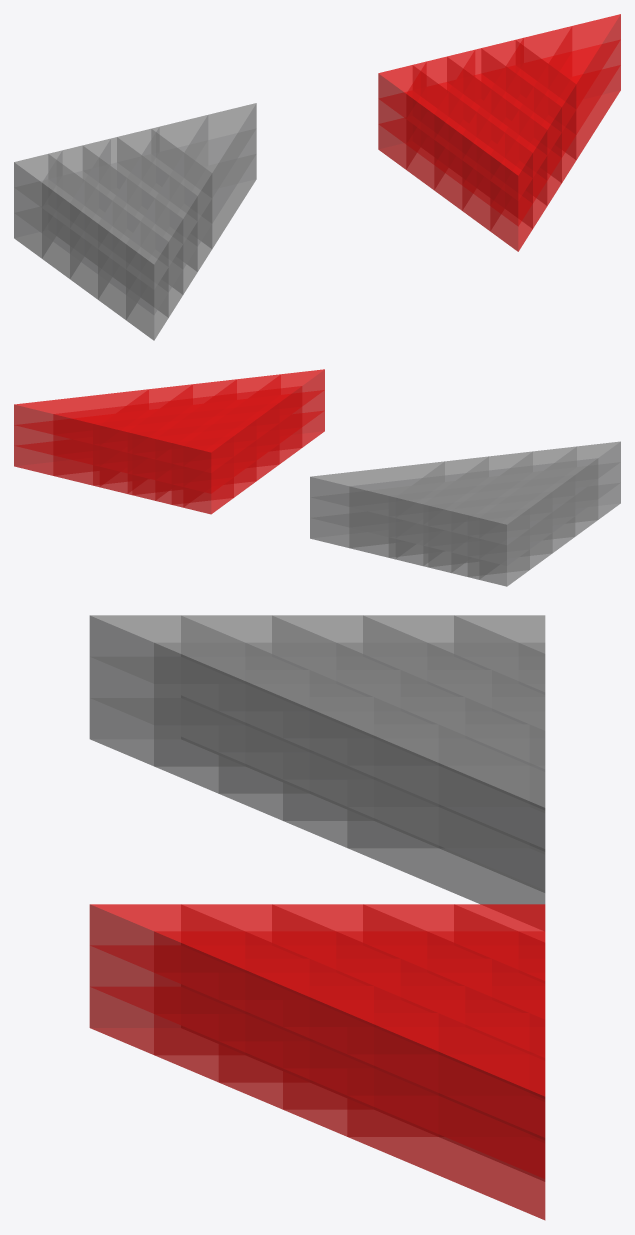
The model's file is Elements_Spatial_CellComplex_Serialization.glb.
The picture shows the model from 3 angles, top to bottom: view 1: azimuth 30°, elevation 25°; view 2: azimuth 150°, elevation 25°; view 3: azimuth 270°, elevation 25°; orthographic projection. The views are drawn at different scales.
Visible parts, largest first — view 1: cb6a8726-0b2a-4762-ac28-afc36d2772a4_mesh, f2f7b78c-bcb3-4891-8a52-3ab11332d802_mesh, 1bffa0e8-3c13-440f-a8ea-6434182a25a7_mesh, 413bd178-4c49-42d1-b637-49930e638dfd_mesh, 86b4b76c-a4fa-48e4-bff9-3f65fb615cdb_mesh, e0caba75-3ee8-4d52-9e68-896342ec1fe2_mesh, bff3540b-61e3-4b11-8cb3-d2d9c3e74ef3_mesh, c2813151-764d-4a6e-aa57-45fa72cc9deb_mesh, 70e44c92-bfd2-47ae-aebf-99ae5455e0bc_mesh, 8d4b6c8e-488c-4d90-abe8-a21fdc763f4d_mesh, 4e35b44a-b2de-4c8e-b3a6-76dd6f7da07a_mesh, 1ec2d6a2-2953-435f-9bb0-16098f46db8c_mesh (+122 smaller); view 2: 4e35b44a-b2de-4c8e-b3a6-76dd6f7da07a_mesh, 1ec2d6a2-2953-435f-9bb0-16098f46db8c_mesh, f2f7b78c-bcb3-4891-8a52-3ab11332d802_mesh, cb6a8726-0b2a-4762-ac28-afc36d2772a4_mesh, 8e6edba2-9fb0-4216-a412-309e67443512_mesh, 1e044d0b-22fd-4aed-88a6-c4c010fc0cc2_mesh, db8bdd7c-5eb1-41f9-b47b-2670a491ab0f_mesh, 7e0219ff-8c27-42bf-8920-c7bf5a79bde7_mesh, 2c3256f2-b109-44a9-9242-fe92d48b10a4_mesh, 4e7d21c1-b33c-4f83-af83-15554ef64523_mesh, d05b0a55-04d4-4d9b-a85f-7aabddde9ebd_mesh, b7ab07c4-7912-4136-b72d-d4a01e5a7959_mesh (+159 smaller); view 3: c2813151-764d-4a6e-aa57-45fa72cc9deb_mesh, 4e35b44a-b2de-4c8e-b3a6-76dd6f7da07a_mesh, 1ec2d6a2-2953-435f-9bb0-16098f46db8c_mesh, 8d4b6c8e-488c-4d90-abe8-a21fdc763f4d_mesh, 70e44c92-bfd2-47ae-aebf-99ae5455e0bc_mesh, bff3540b-61e3-4b11-8cb3-d2d9c3e74ef3_mesh, cb6a8726-0b2a-4762-ac28-afc36d2772a4_mesh, f2f7b78c-bcb3-4891-8a52-3ab11332d802_mesh, 1bffa0e8-3c13-440f-a8ea-6434182a25a7_mesh, f096f50f-81ec-4b26-b194-9e2ab34200bf_mesh, c597f133-6636-4700-9572-aabea941f202_mesh, a49bc336-d82e-4ec0-b02b-543e796b1a56_mesh (+162 smaller).
Part boxes in pixels (left/top/right/bottom): cb6a8726-0b2a-4762-ac28-afc36d2772a4_mesh: left=184, top=103, right=256, bottom=172; f2f7b78c-bcb3-4891-8a52-3ab11332d802_mesh: left=548, top=14, right=620, bottom=83; 1bffa0e8-3c13-440f-a8ea-6434182a25a7_mesh: left=560, top=40, right=619, bottom=108; 413bd178-4c49-42d1-b637-49930e638dfd_mesh: left=195, top=129, right=255, bottom=197; 86b4b76c-a4fa-48e4-bff9-3f65fb615cdb_mesh: left=208, top=103, right=256, bottom=139; e0caba75-3ee8-4d52-9e68-896342ec1fe2_mesh: left=572, top=14, right=620, bottom=50; bff3540b-61e3-4b11-8cb3-d2d9c3e74ef3_mesh: left=212, top=154, right=256, bottom=248; c2813151-764d-4a6e-aa57-45fa72cc9deb_mesh: left=576, top=40, right=620, bottom=134; 70e44c92-bfd2-47ae-aebf-99ae5455e0bc_mesh: left=576, top=65, right=620, bottom=159; 8d4b6c8e-488c-4d90-abe8-a21fdc763f4d_mesh: left=212, top=129, right=256, bottom=222; 4e35b44a-b2de-4c8e-b3a6-76dd6f7da07a_mesh: left=576, top=14, right=620, bottom=108; 1ec2d6a2-2953-435f-9bb0-16098f46db8c_mesh: left=212, top=104, right=256, bottom=197; 4e35b44a-b2de-4c8e-b3a6-76dd6f7da07a_mesh: left=14, top=389, right=147, bottom=424; 1ec2d6a2-2953-435f-9bb0-16098f46db8c_mesh: left=310, top=462, right=443, bottom=496; f2f7b78c-bcb3-4891-8a52-3ab11332d802_mesh: left=14, top=389, right=148, bottom=413; cb6a8726-0b2a-4762-ac28-afc36d2772a4_mesh: left=311, top=461, right=444, bottom=486; 8e6edba2-9fb0-4216-a412-309e67443512_mesh: left=349, top=478, right=421, bottom=506; 1e044d0b-22fd-4aed-88a6-c4c010fc0cc2_mesh: left=53, top=406, right=125, bottom=434; db8bdd7c-5eb1-41f9-b47b-2670a491ab0f_mesh: left=486, top=508, right=529, bottom=533; 7e0219ff-8c27-42bf-8920-c7bf5a79bde7_mesh: left=190, top=436, right=233, bottom=460; 2c3256f2-b109-44a9-9242-fe92d48b10a4_mesh: left=53, top=455, right=92, bottom=485; 4e7d21c1-b33c-4f83-af83-15554ef64523_mesh: left=349, top=507, right=388, bottom=536; d05b0a55-04d4-4d9b-a85f-7aabddde9ebd_mesh: left=349, top=486, right=388, bottom=516; b7ab07c4-7912-4136-b72d-d4a01e5a7959_mesh: left=53, top=414, right=92, bottom=444; c2813151-764d-4a6e-aa57-45fa72cc9deb_mesh: left=347, top=1054, right=545, bottom=1178; 4e35b44a-b2de-4c8e-b3a6-76dd6f7da07a_mesh: left=347, top=1013, right=545, bottom=1137; 1ec2d6a2-2953-435f-9bb0-16098f46db8c_mesh: left=347, top=724, right=545, bottom=848; 8d4b6c8e-488c-4d90-abe8-a21fdc763f4d_mesh: left=347, top=766, right=545, bottom=889; 70e44c92-bfd2-47ae-aebf-99ae5455e0bc_mesh: left=347, top=1096, right=545, bottom=1219; bff3540b-61e3-4b11-8cb3-d2d9c3e74ef3_mesh: left=347, top=807, right=545, bottom=904; cb6a8726-0b2a-4762-ac28-afc36d2772a4_mesh: left=348, top=724, right=545, bottom=807; f2f7b78c-bcb3-4891-8a52-3ab11332d802_mesh: left=348, top=1013, right=545, bottom=1096; 1bffa0e8-3c13-440f-a8ea-6434182a25a7_mesh: left=349, top=1054, right=544, bottom=1137; f096f50f-81ec-4b26-b194-9e2ab34200bf_mesh: left=349, top=1137, right=544, bottom=1219; c597f133-6636-4700-9572-aabea941f202_mesh: left=349, top=807, right=544, bottom=889; a49bc336-d82e-4ec0-b02b-543e796b1a56_mesh: left=350, top=1096, right=544, bottom=1178.
Size of the model in its own units: 125 by 15 by 50.
